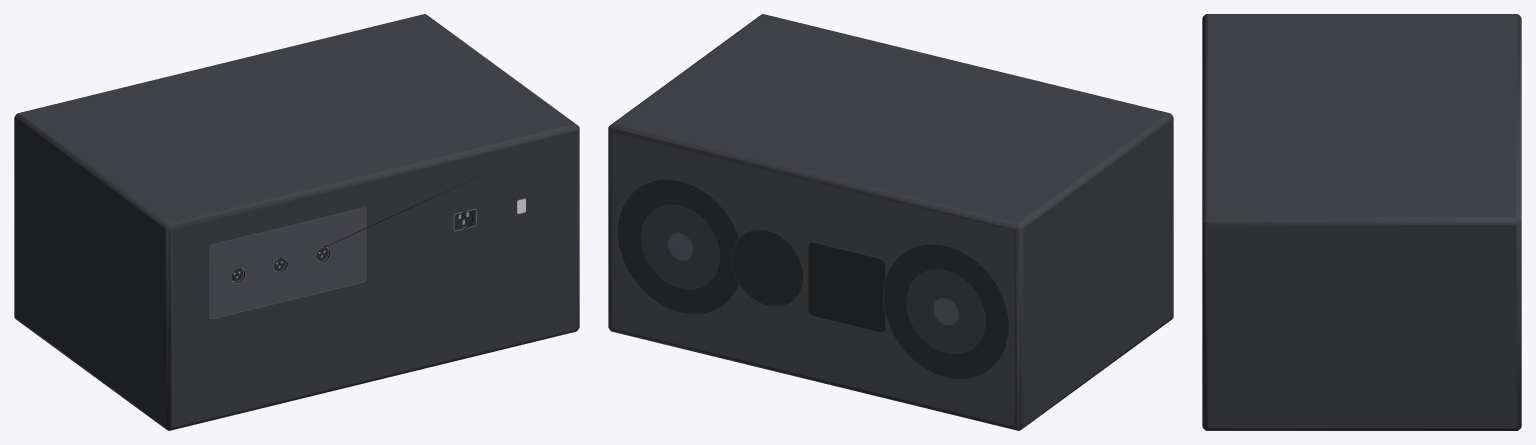
Rendered from adam-audio-s3h.glb.
The picture shows the model from 3 angles, left to right: view 1: azimuth 30°, elevation 25°; view 2: azimuth 150°, elevation 25°; view 3: azimuth 270°, elevation 25°; orthographic projection. The views are drawn at different scales.
Visible parts, largest first — view 1: adam-audio-s3h-body; view 2: adam-audio-s3h-body; view 3: adam-audio-s3h-body.
Boxes of the visible parts, box(x1,y1,x2,y2) form: adam-audio-s3h-body: box(14, 14, 579, 430); adam-audio-s3h-body: box(608, 14, 1173, 430); adam-audio-s3h-body: box(1202, 14, 1521, 430).
Bounding box in the file's own units: 0.585 × 0.28 × 0.38.
Materials: 1 (1 with a texture image).
